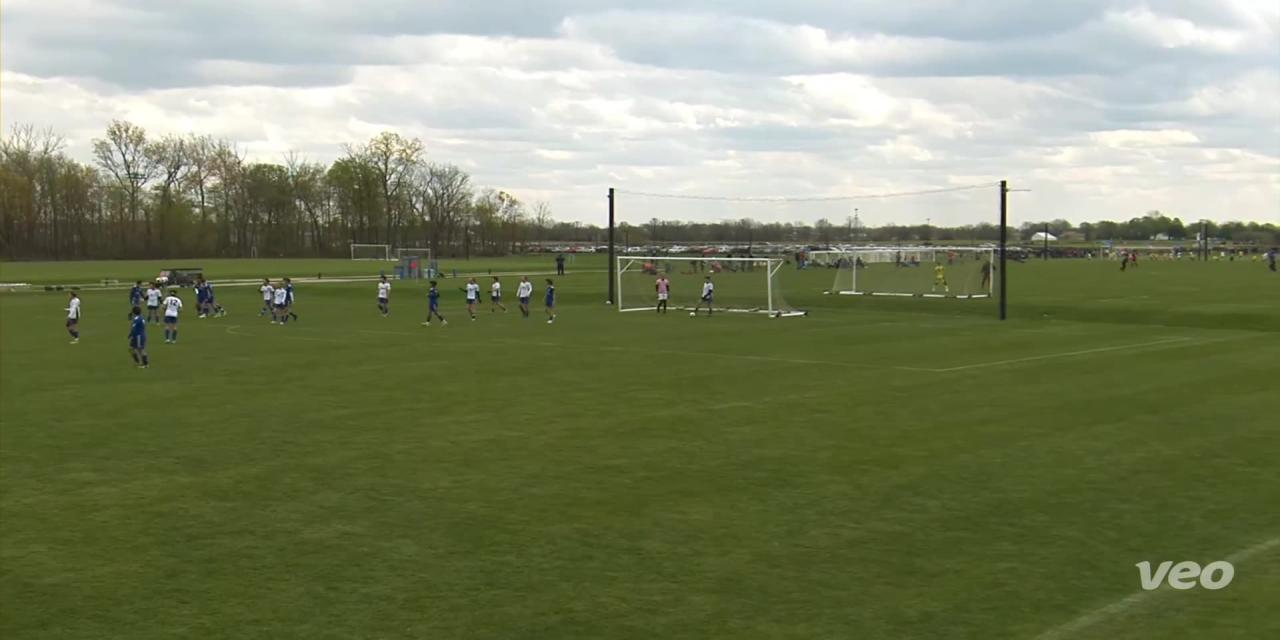goal: (614, 250, 812, 322)
sports ball: (677, 296, 699, 324)
